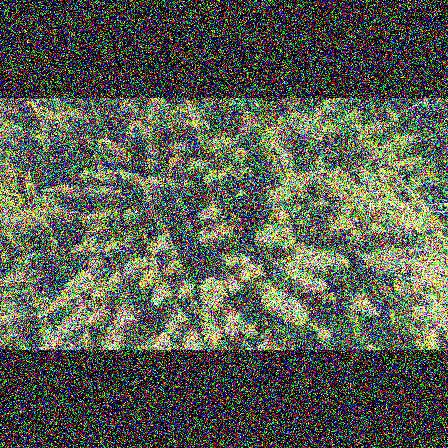Sick: (196, 206, 216, 225), (189, 158, 210, 175), (122, 262, 142, 279), (170, 139, 191, 155), (85, 257, 104, 271), (211, 206, 228, 220), (142, 143, 158, 156)
